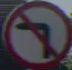Don't turn left: (6, 8, 60, 60)
